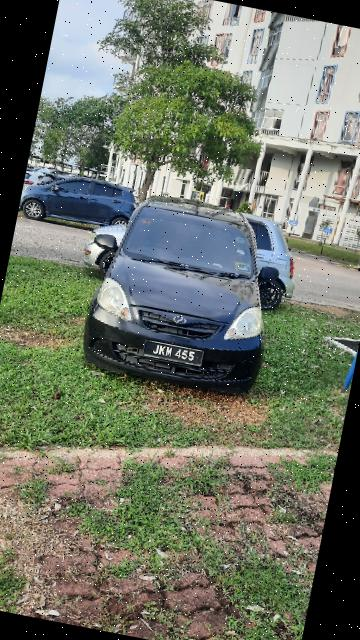License_Plate: (139, 337, 210, 377)
car: (73, 181, 294, 406), (18, 163, 144, 238)
